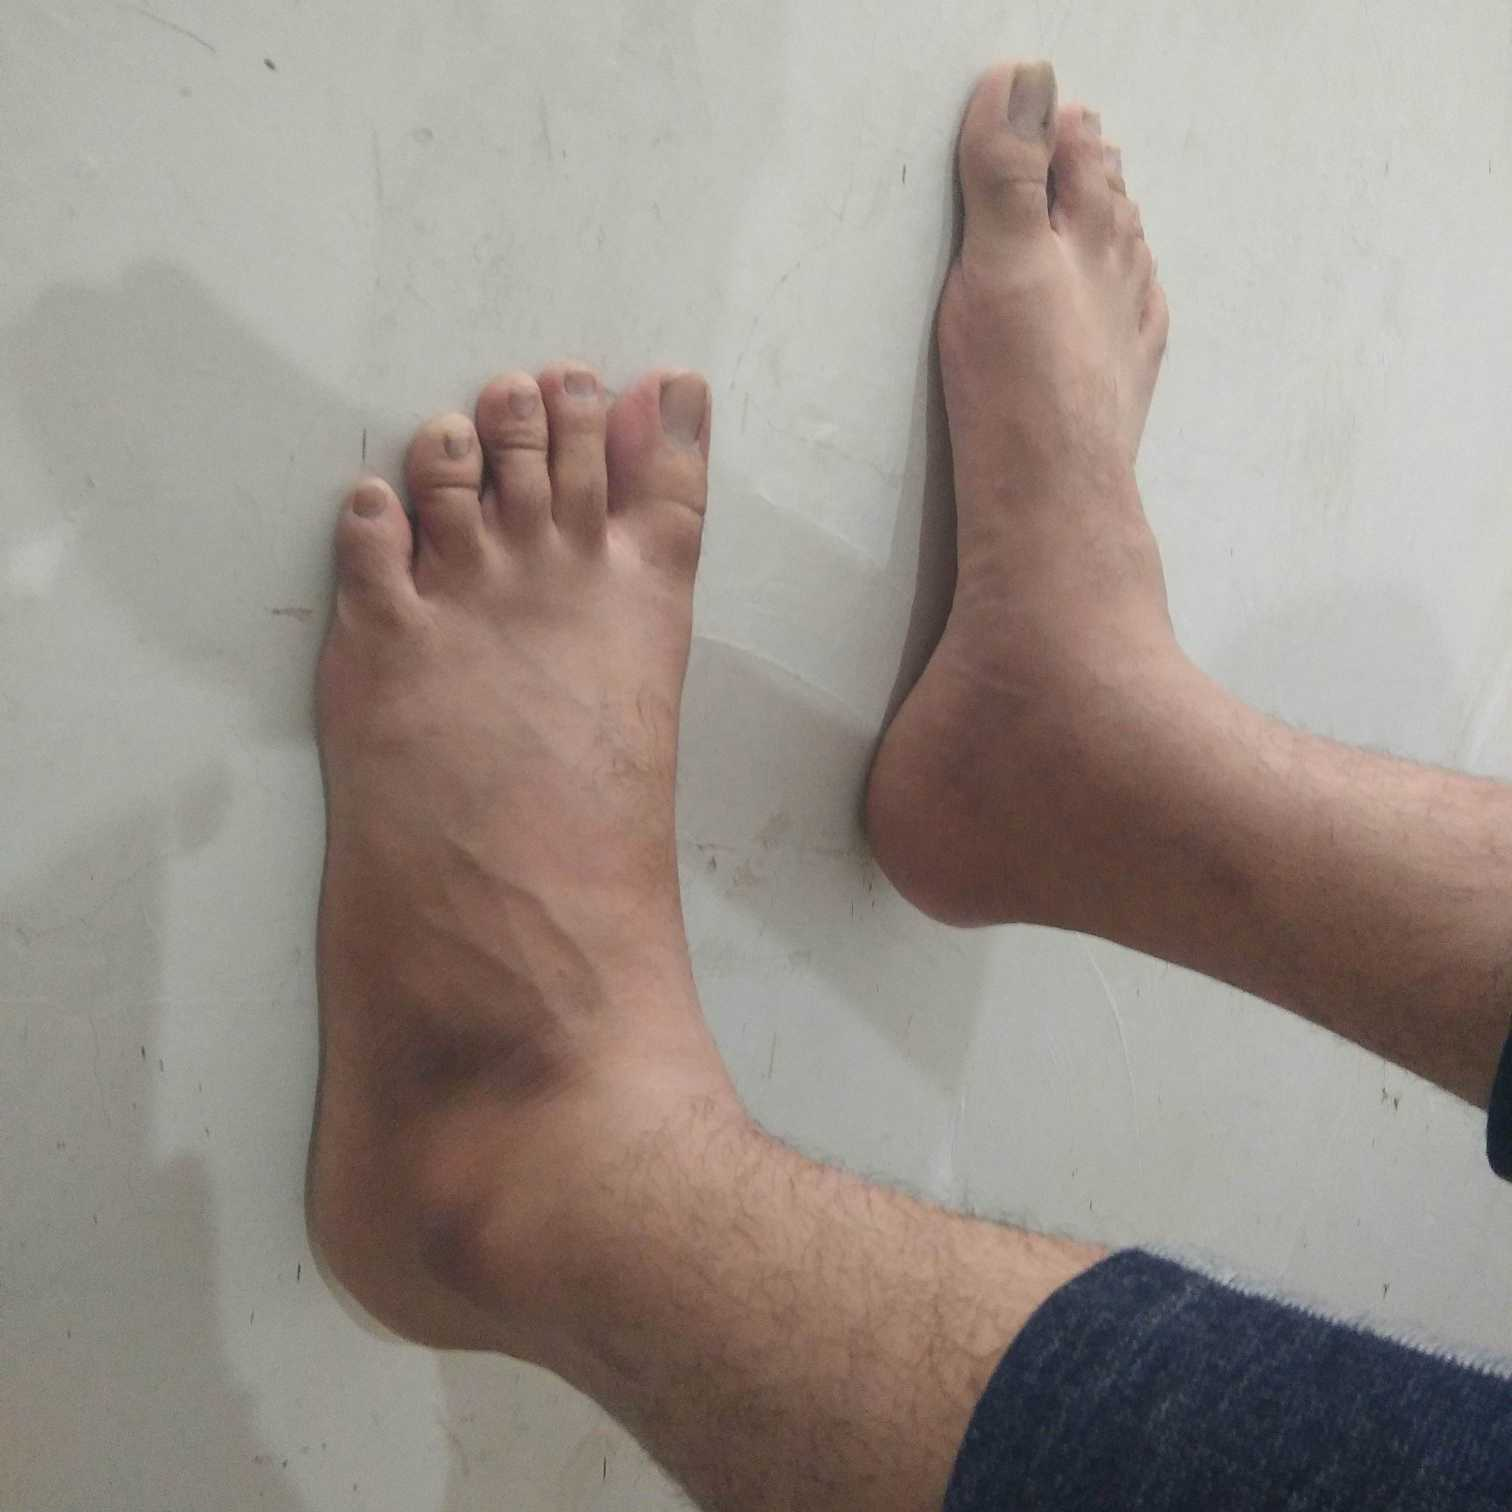foot: (296, 364, 719, 1354), (858, 62, 1174, 930)
